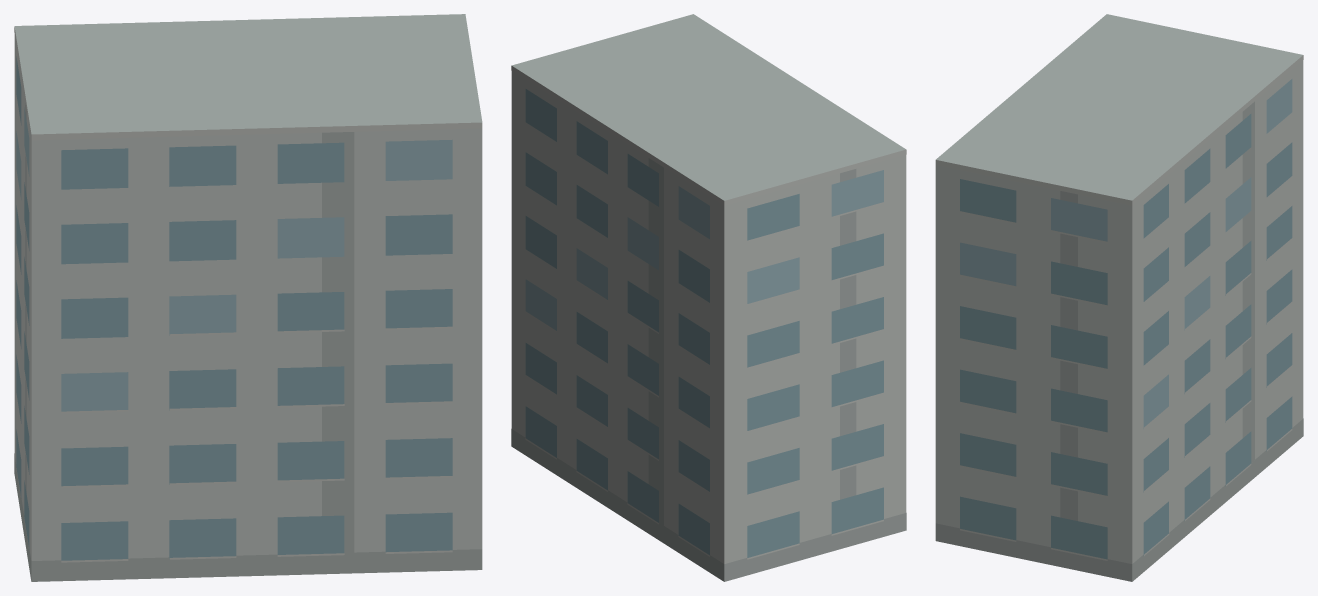
File: survey-upis-32887582.glb
3 views of the same model, side by side, from view 1: azimuth 30°, elevation 25°; view 2: azimuth 150°, elevation 25°; view 3: azimuth 270°, elevation 25° (orthographic). The views are drawn at different scales.
Parts seen in each view (by area): view 1: survey-upis-32887582.tmp; view 2: survey-upis-32887582.tmp; view 3: survey-upis-32887582.tmp.
Part boxes in pixels (left/top/right/bottom): survey-upis-32887582.tmp: left=14, top=14, right=482, bottom=581; survey-upis-32887582.tmp: left=511, top=14, right=906, bottom=581; survey-upis-32887582.tmp: left=935, top=14, right=1303, bottom=581.
Bounding box in the file's own units: 19.22 × 18.3 × 16.01.
